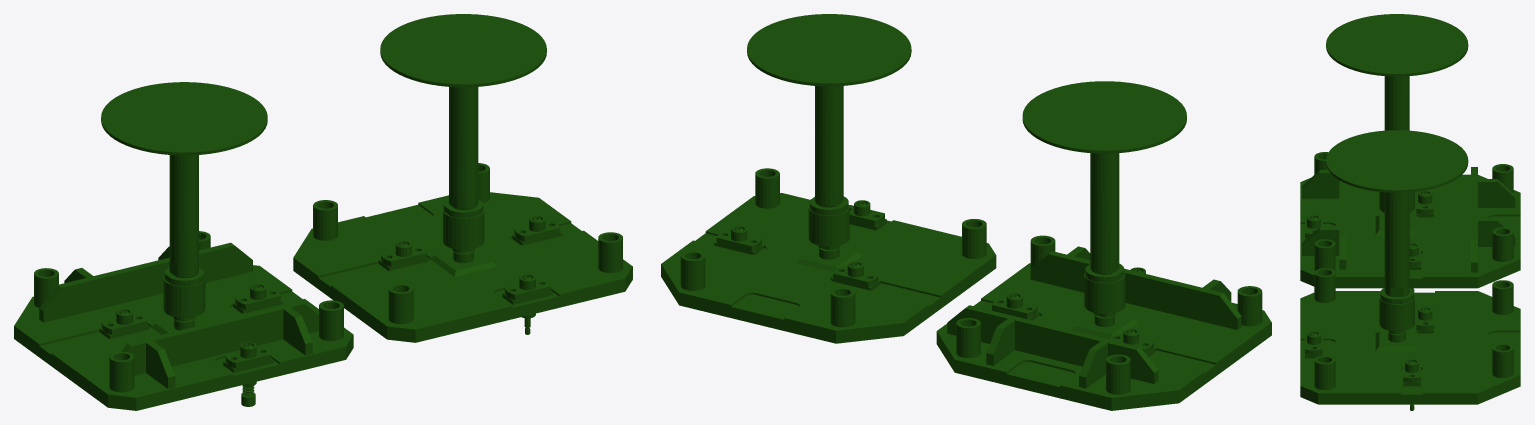
The model's file is NCAD.FBX.
3 views of the same model, side by side, from view 1: azimuth 30°, elevation 25°; view 2: azimuth 150°, elevation 25°; view 3: azimuth 270°, elevation 25° (orthographic). The views are drawn at different scales.
Parts seen in each view (by area): view 1: 基台WIRE, 基台, 強化肋; view 2: 基台WIRE, 基台, 強化肋; view 3: 基台WIRE, 基台, 強化肋.
Part boxes in pixels (x1,y1,x2,y2): 基台WIRE: (293, 14, 632, 342); 基台: (14, 82, 353, 410); 強化肋: (39, 242, 318, 388); 基台WIRE: (661, 14, 996, 343); 基台: (936, 81, 1271, 410); 強化肋: (947, 246, 1241, 388); 基台WIRE: (1300, 130, 1520, 410); 基台: (1300, 14, 1520, 292); 強化肋: (1302, 167, 1515, 272).
Size of the model in its own units: 92.24 by 39.37 by 42.79.
